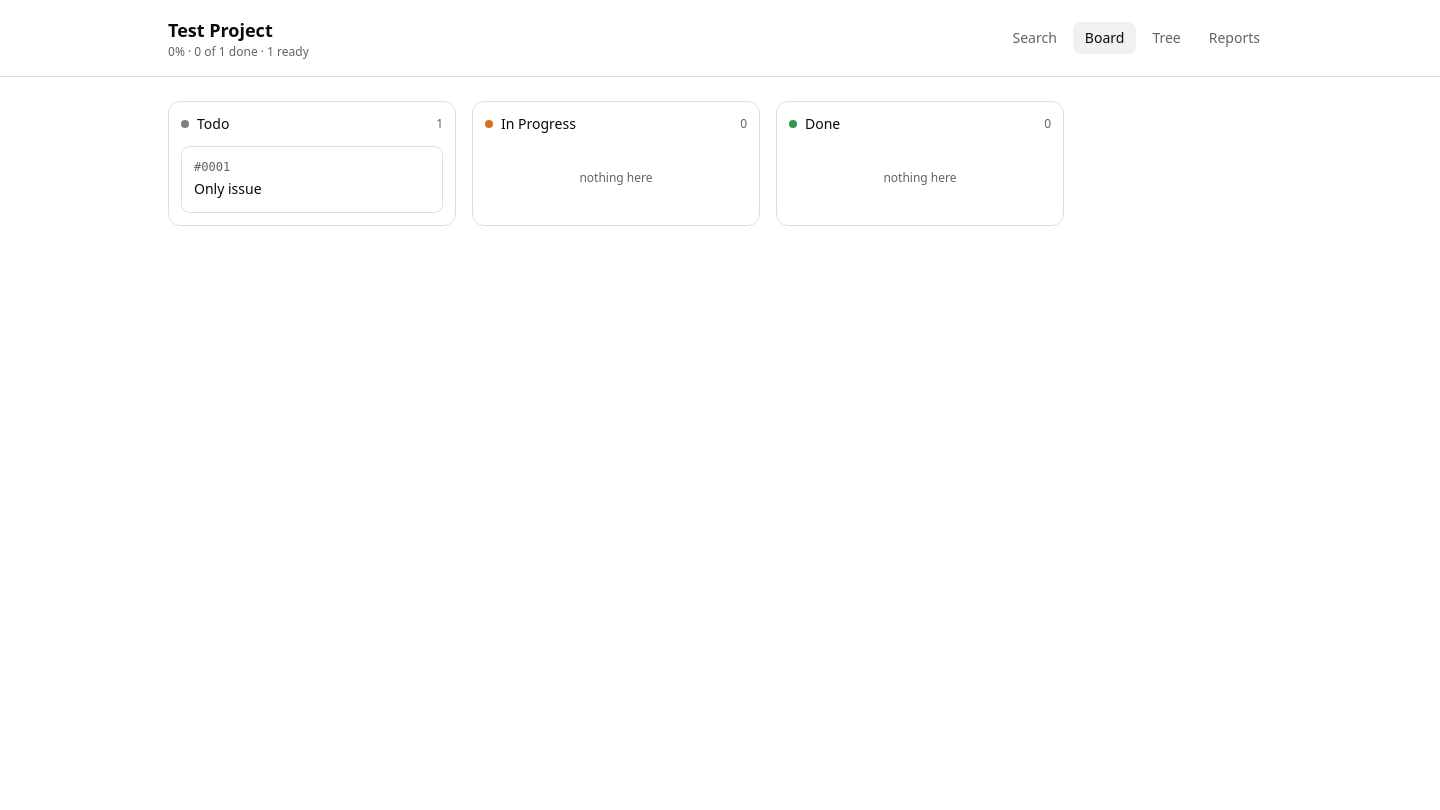
search › opens from the header
The width and height of the screenshot is (1440, 810).
Expected: the element with test id "board" is shown, x1=168 y1=101 x2=1064 y2=226
Click the button with test id "search-open": (1035, 38) x1=1000 y1=22 x2=1069 y2=54
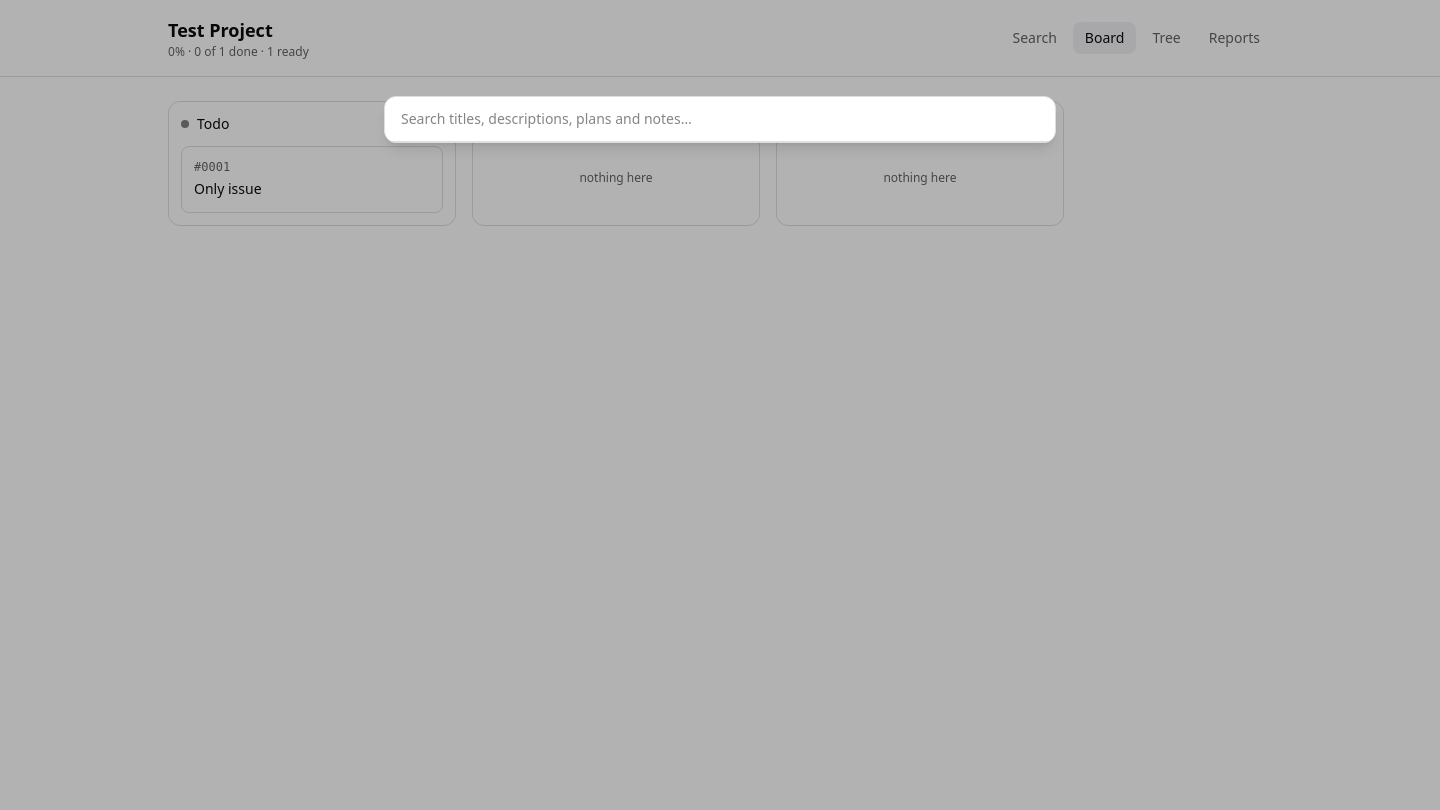
Expected: the element with test id "search" is shown
